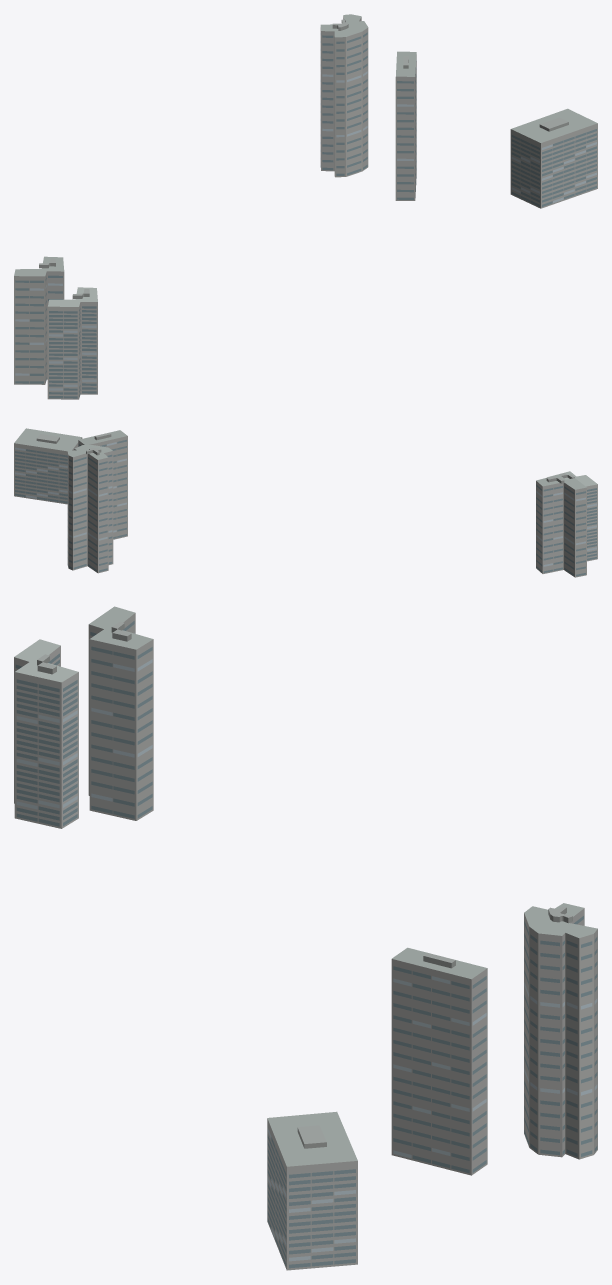
Rendered from apt-a13824006.glb.
3 views of the same model, one above another, from view 1: azimuth 30°, elevation 25°; view 2: azimuth 150°, elevation 25°; view 3: azimuth 270°, elevation 25° (orthographic). The views are drawn at different scales.
Visible parts, largest first — view 1: apt-a13824006; view 2: apt-a13824006; view 3: apt-a13824006.
Boxes of the visible parts, bbox=[...] form: apt-a13824006: bbox=[14, 14, 597, 399]; apt-a13824006: bbox=[14, 428, 597, 577]; apt-a13824006: bbox=[14, 606, 597, 1270].
Bounding box in the file's own units: 466 × 100 × 233.
